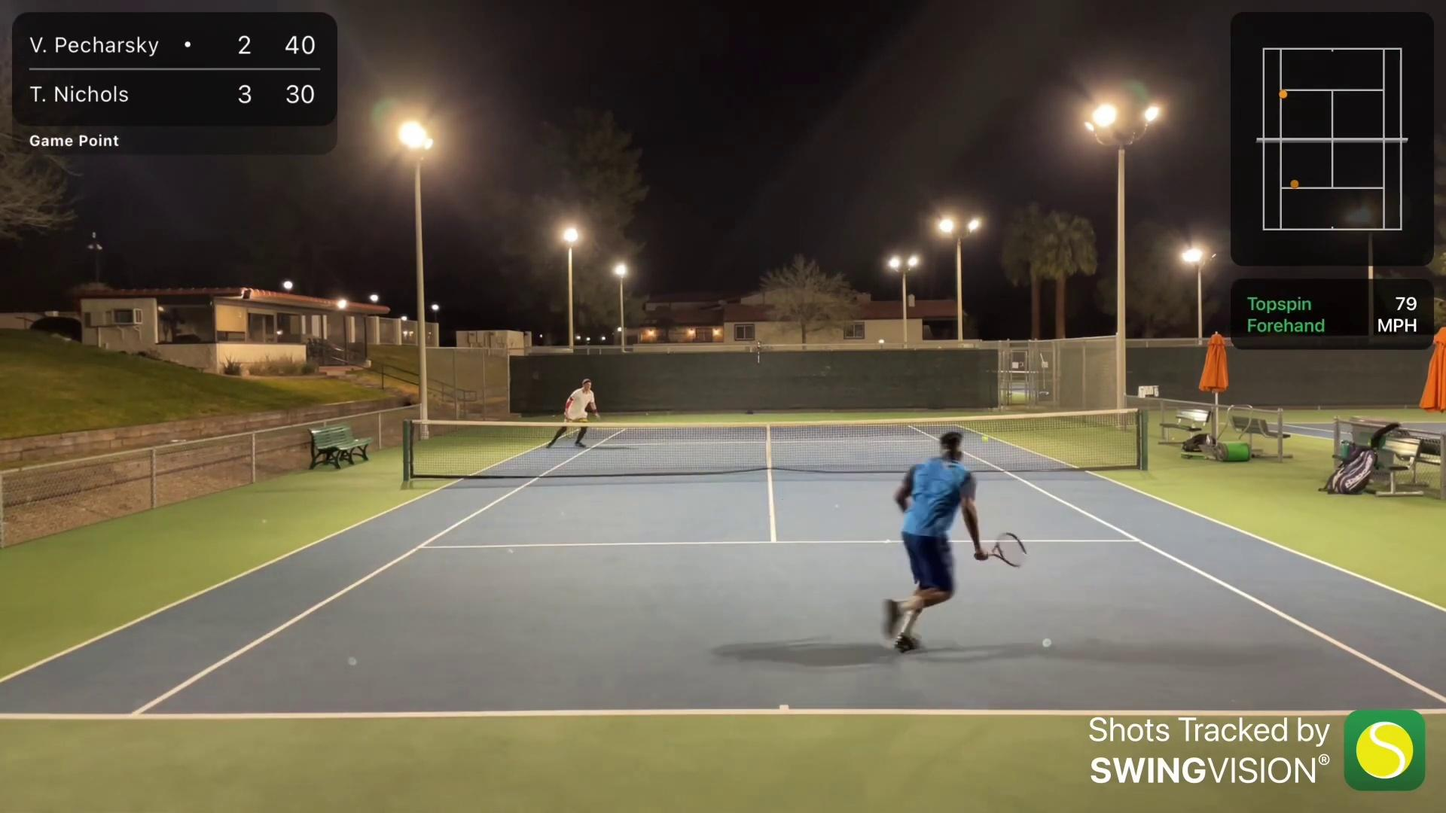ball: (977, 432, 993, 447)
